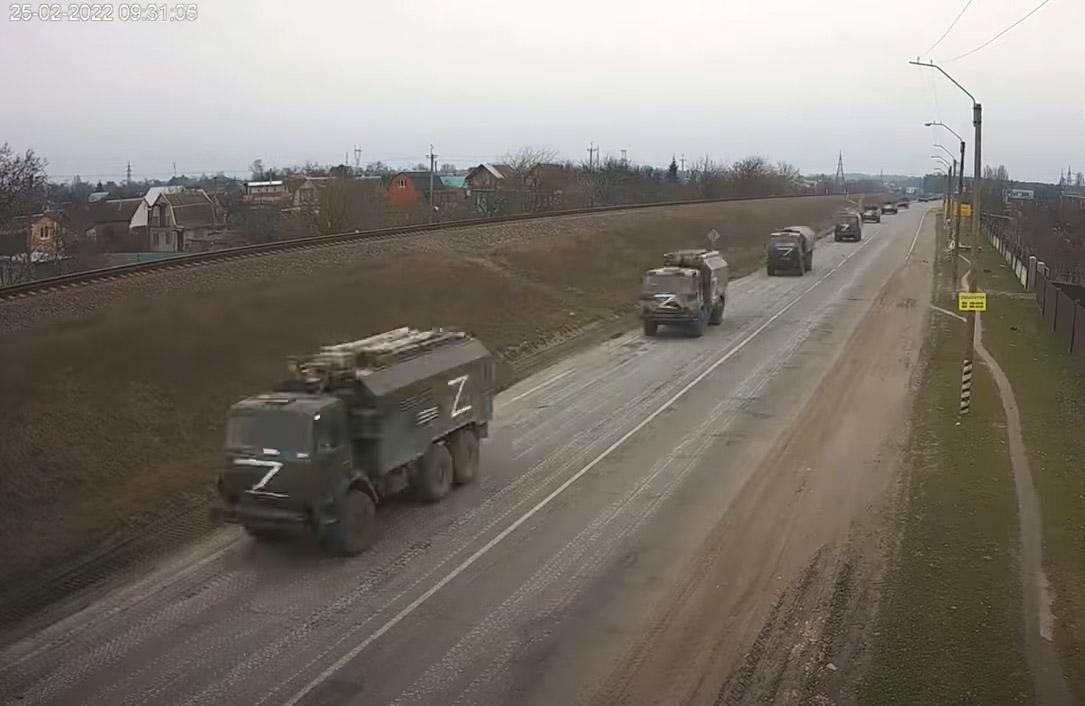truck: (208, 323, 512, 562), (639, 239, 738, 340), (754, 213, 818, 281), (828, 206, 866, 250)
